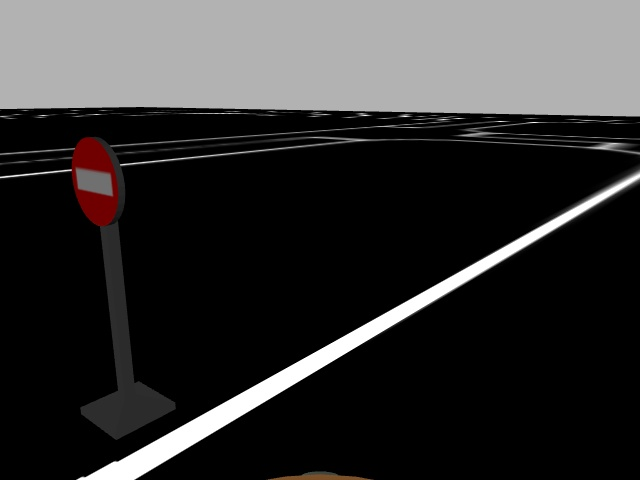prohibited: (70, 135, 125, 229)
